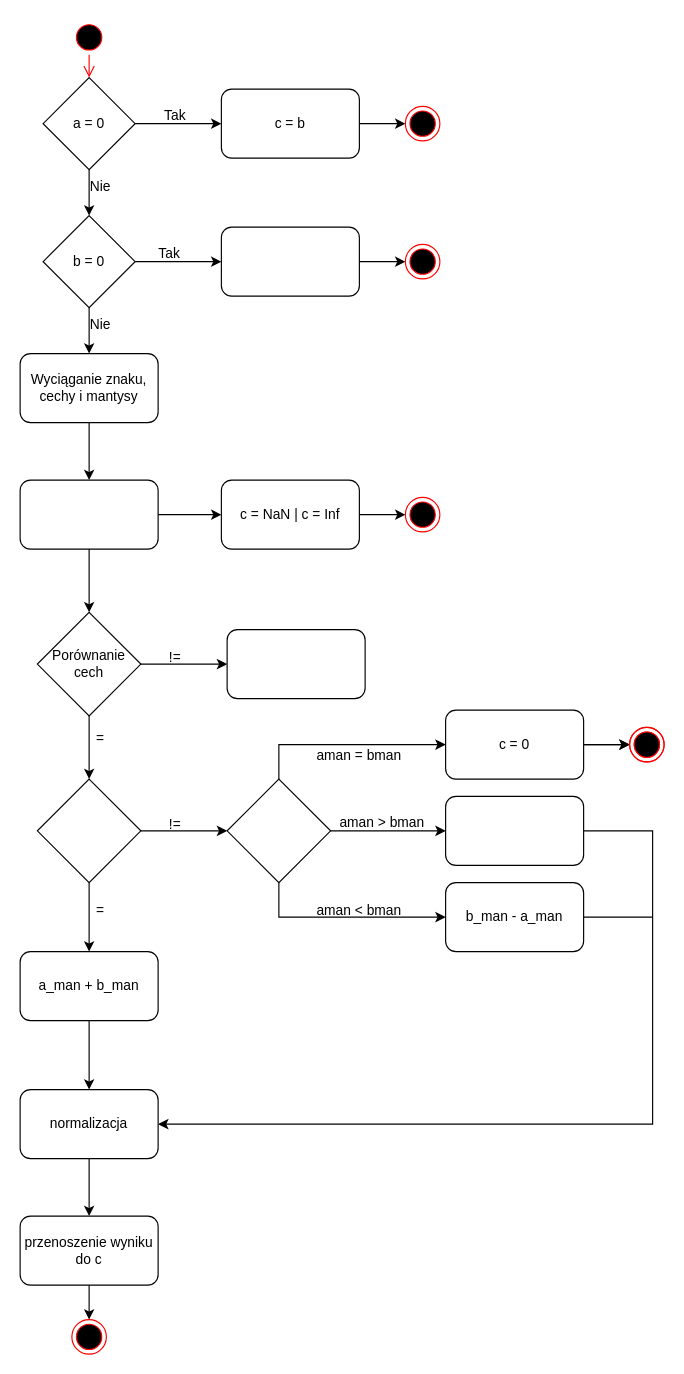
Image size: 684x1374. Some labels were removed from this diagram. The shapes that lost their labels are listed below. From the top down, each one's box as (x1, y1, x2, y2) in pixels, then its label:
(220, 226, 359, 296): c = a
(19, 479, 158, 549): Sprawdzenie wyjątków
(226, 628, 365, 699): przesuwanie mantysy
(36, 778, 141, 883): Porównanie znaków
(226, 778, 331, 883): Porównanie mantys
(444, 795, 584, 865): a_man - b_man
